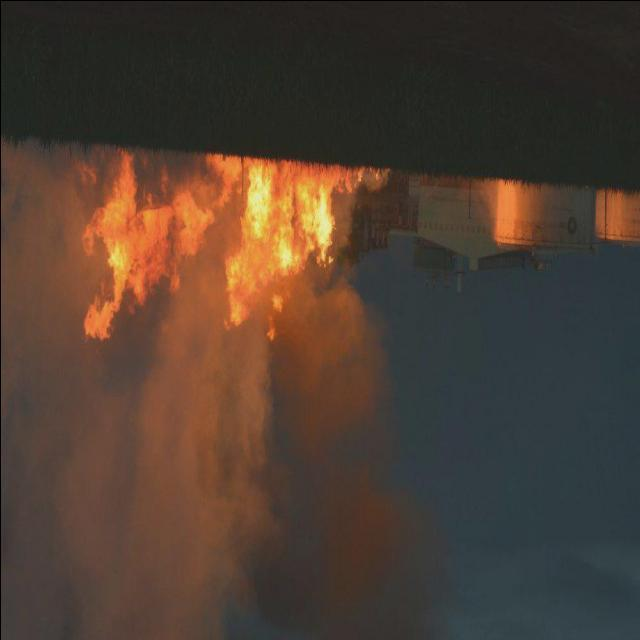Fire: (79, 150, 381, 357)
